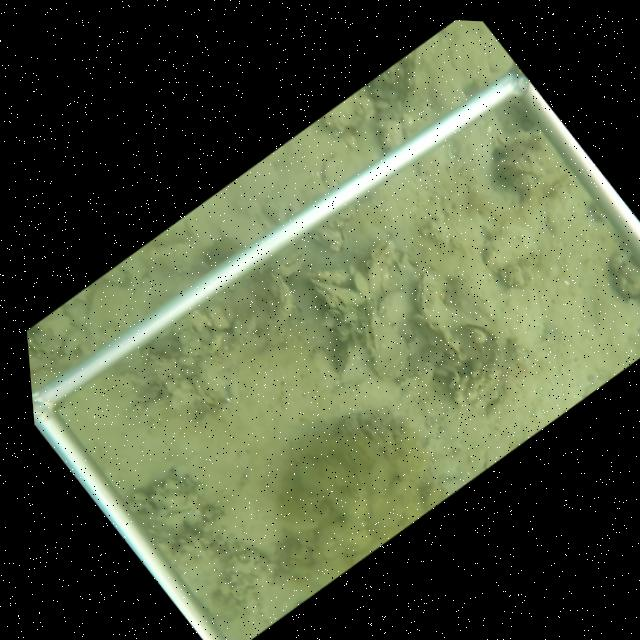Oyster-Closed: (410, 311, 467, 365), (250, 268, 297, 329), (415, 273, 458, 334), (311, 277, 368, 311), (469, 326, 507, 369), (270, 236, 309, 276), (311, 224, 347, 254), (160, 504, 192, 525), (311, 284, 340, 307)
Oyster-Indeterminate: (366, 303, 409, 380), (377, 287, 416, 338), (337, 336, 372, 386)
Oyster-Open: (128, 384, 170, 409), (29, 355, 60, 380)
